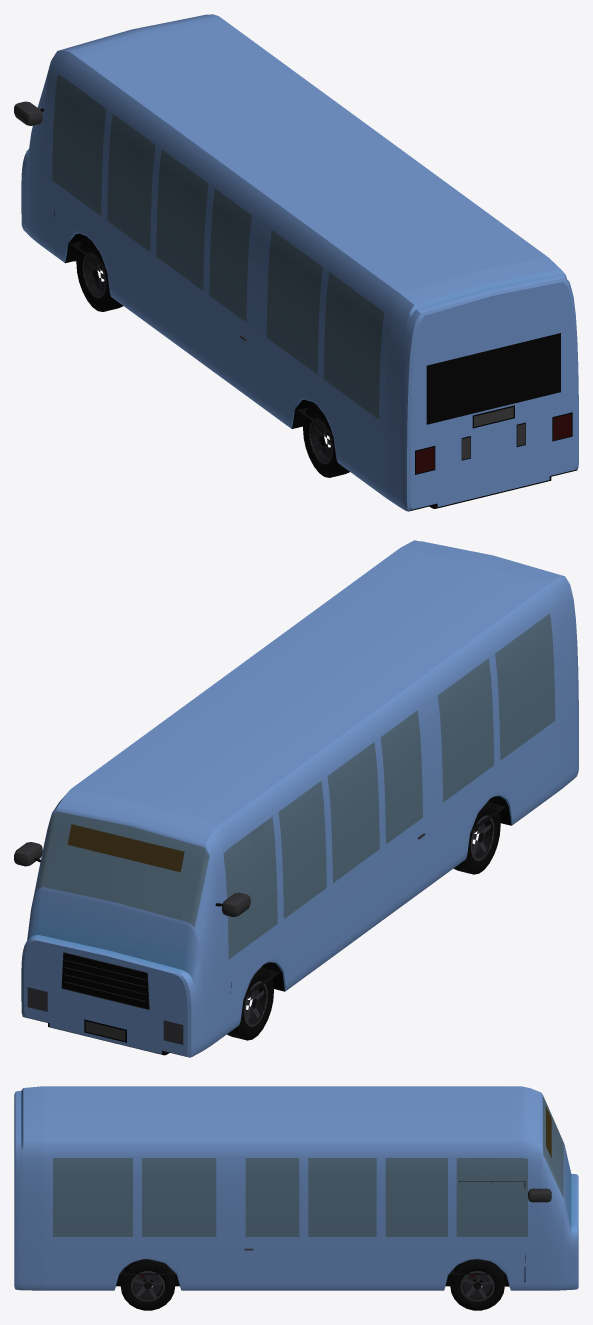
The model's file is cv2_bus.glb.
3 renders of one model, top to bottom at view 1: azimuth 30°, elevation 25°; view 2: azimuth 150°, elevation 25°; view 3: azimuth 270°, elevation 25°, orthographic. The views are drawn at different scales.
Parts seen in each view (by area): view 1: Body, DoorL_Mesh; view 2: Body, DoorL_Mesh; view 3: Body, DoorR_Mesh.
Boxes of the visible parts, left/top/right/bottom form: Body: left=14, top=14, right=578, bottom=511; DoorL_Mesh: left=54, top=76, right=103, bottom=258; Body: left=14, top=540, right=578, bottom=1057; DoorL_Mesh: left=226, top=819, right=275, bottom=1025; Body: left=14, top=1086, right=578, bottom=1310; DoorR_Mesh: left=459, top=1158, right=524, bottom=1283.
Size of what is drawn, in the model's own units: 3.18 by 3.2 by 9.51.
